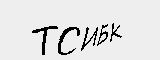Б: (96, 21, 110, 49)
И: (80, 22, 99, 56)
К: (108, 22, 123, 45)
С: (56, 25, 81, 60)
Т: (31, 23, 59, 56)
